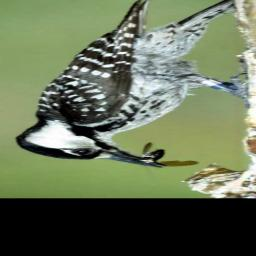Woodpecker: (13, 0, 236, 168)
